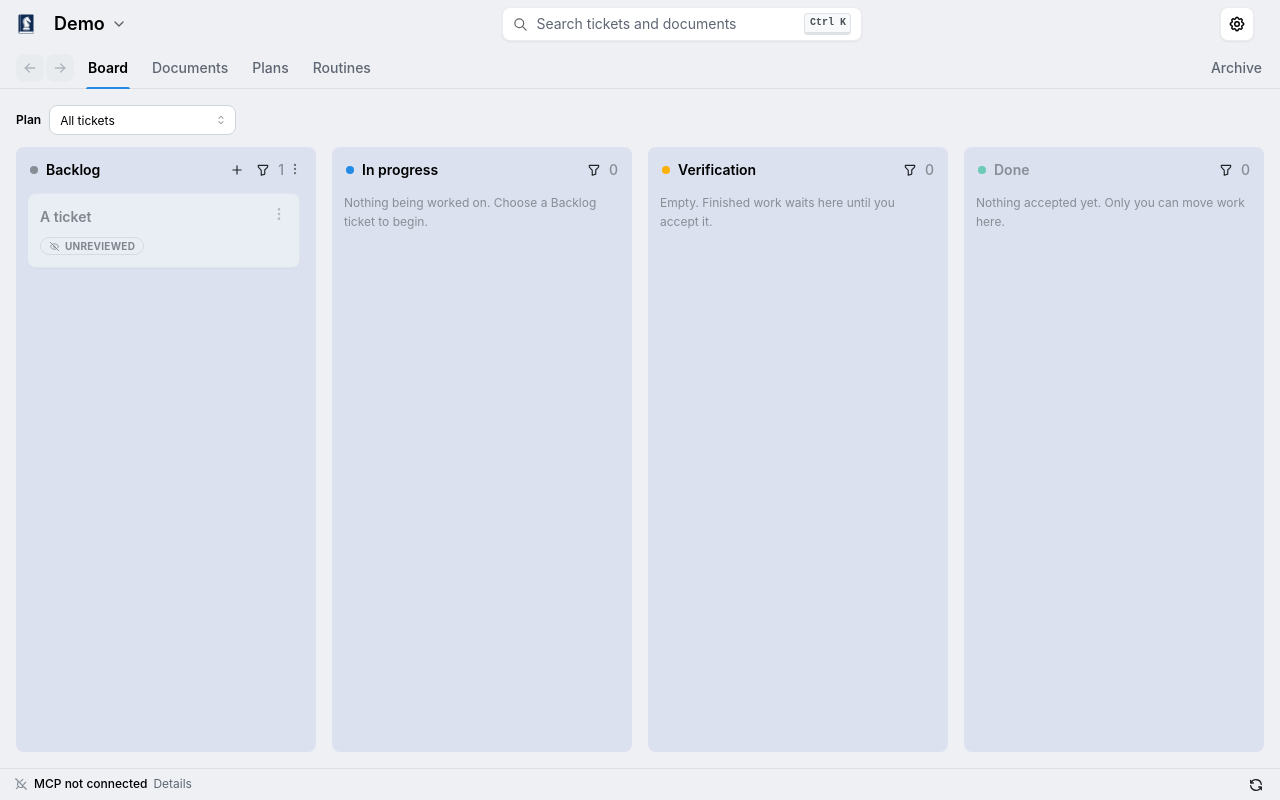
the Archive tab › says what the archive is for when it is empty, rather than looking broken
The image size is (1280, 800).
Check: the text "Demo" is shown, box [54,12,105,36]
Step 1. Click the tab "Archive" → coordinates (1236, 68), box [1209,48,1264,88]
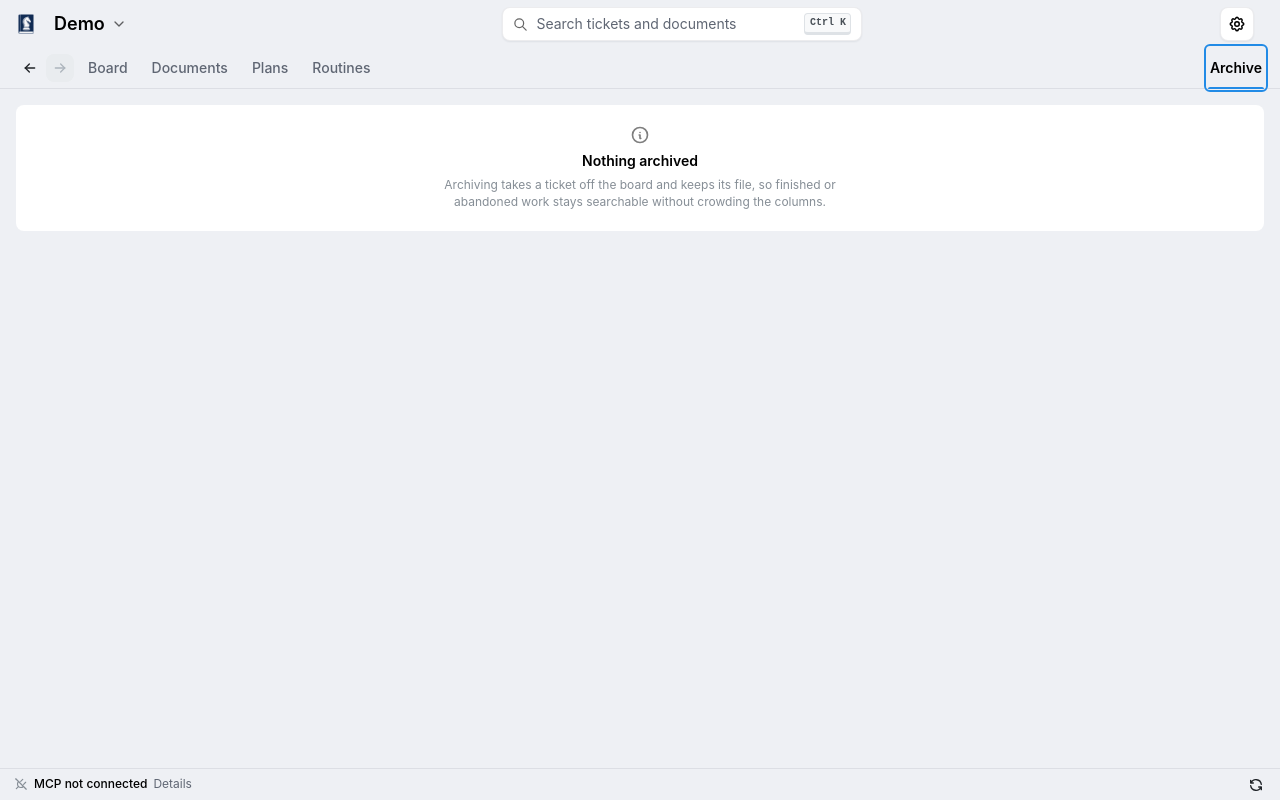
Check: the text "Nothing archived" is shown, box [582,151,698,171]
